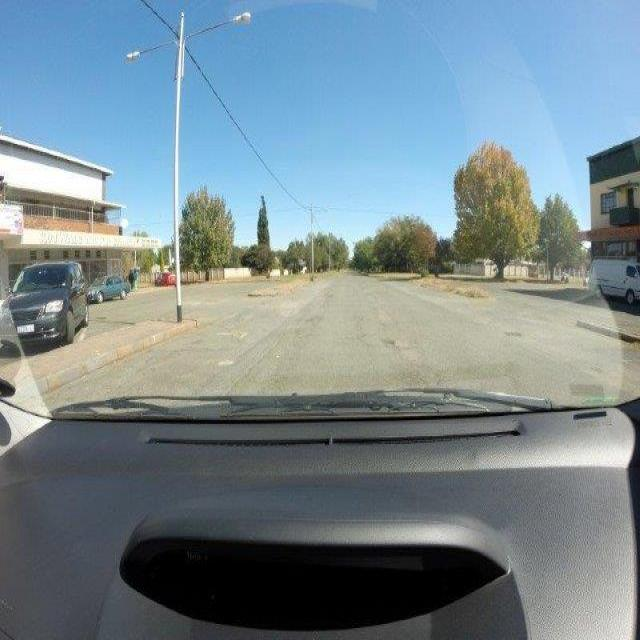lubang: (374, 336, 409, 352), (502, 328, 524, 340)
